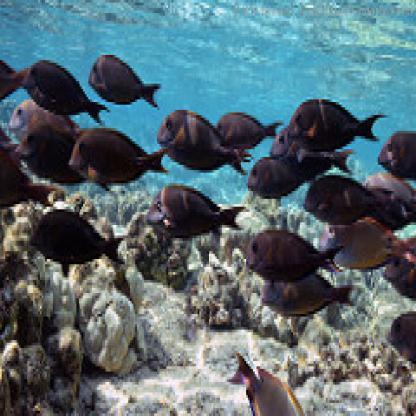surgeon: (64, 119, 168, 187), (24, 48, 109, 129), (249, 226, 349, 289), (282, 101, 386, 156), (211, 106, 280, 148)
